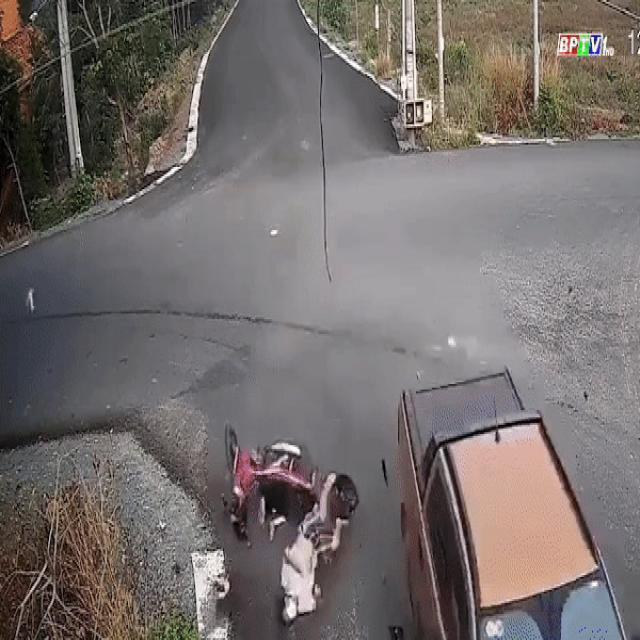multiple_accident: (214, 359, 622, 640)
